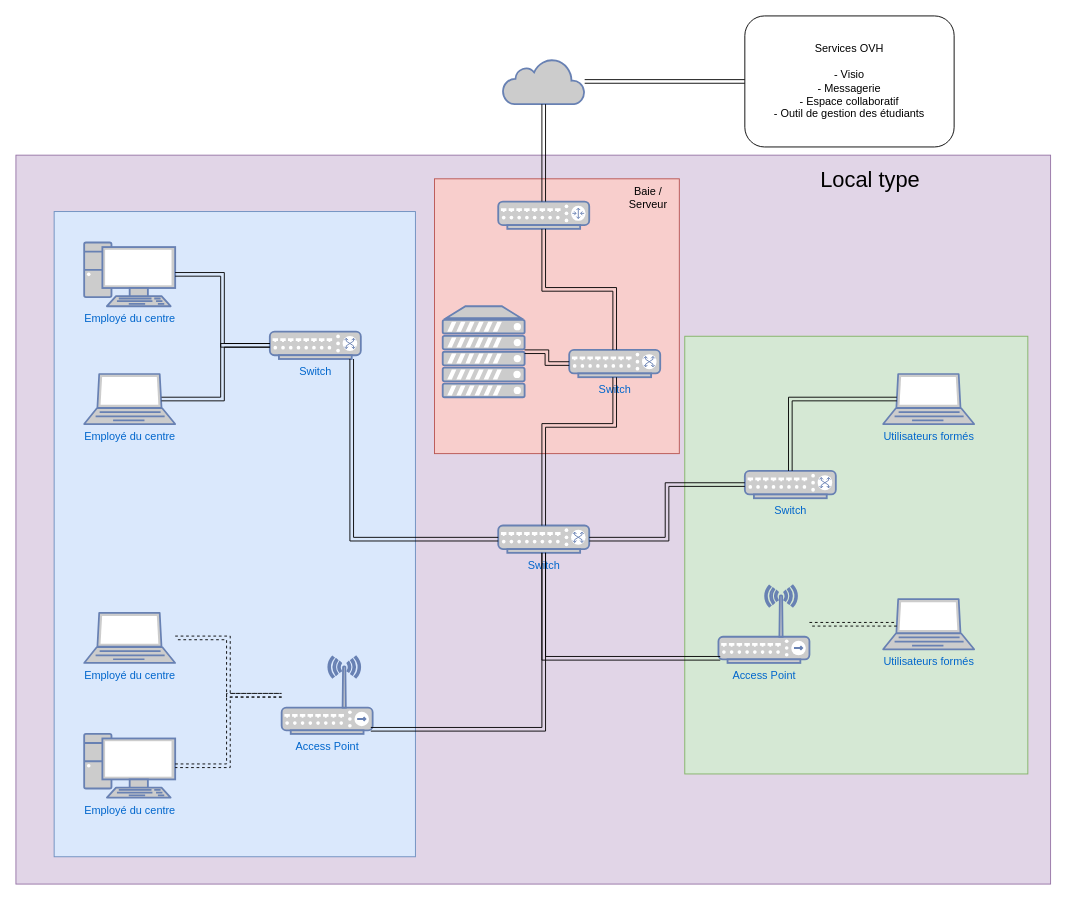
Some shapes in this 1067 by 900 pixel diagram are drawn without their labels. Here are the shapes that lost their labels. From the top down, the box of each, then its label:
(501, 57, 585, 105): Internet
(497, 200, 590, 229): Routeur
(441, 305, 525, 398): Serveur
(53, 211, 415, 857): Réseau Employé
(684, 335, 1028, 774): Réseau formés
